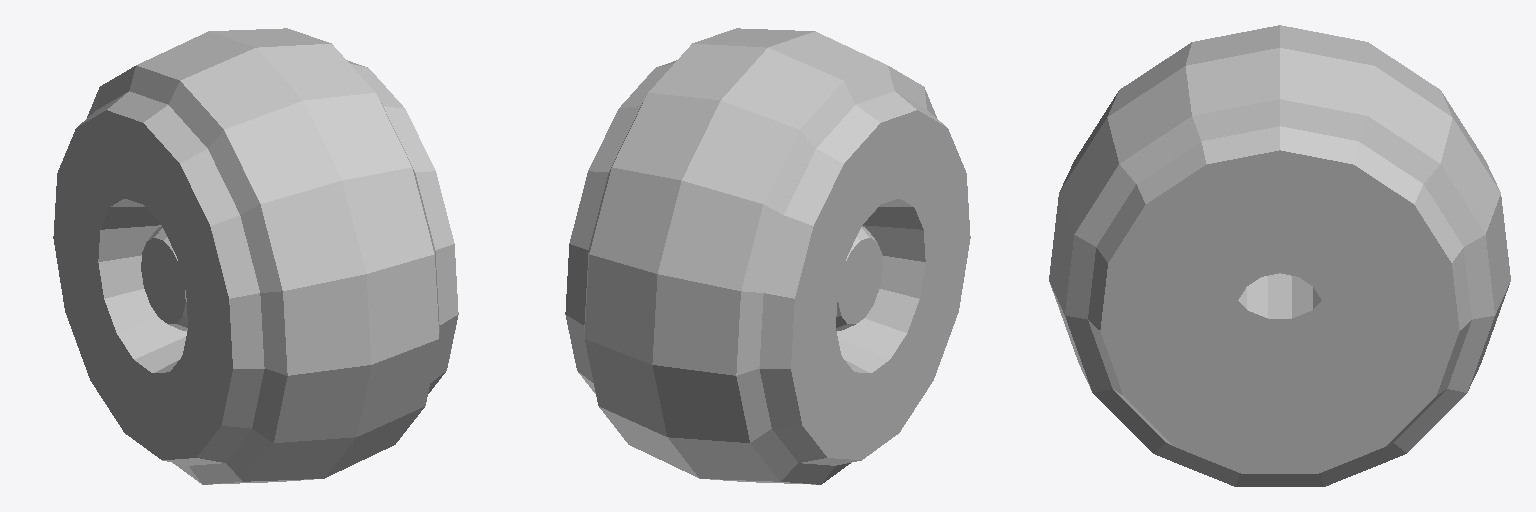
Rendered from RightWheel.obj.
The picture shows the model from 3 angles: view 1: azimuth 30°, elevation 25°; view 2: azimuth 150°, elevation 25°; view 3: azimuth 270°, elevation 25°; orthographic projection.
Parts seen in each view (by area): view 1: pasted__pasted__pasted__pasted__polySurface14 pasted__pasted__pa; view 2: pasted__pasted__pasted__pasted__polySurface14 pasted__pasted__pa; view 3: pasted__pasted__pasted__pasted__polySurface14 pasted__pasted__pa.
Part boxes in pixels (x1,y1,x2,y2): pasted__pasted__pasted__pasted__polySurface14 pasted__pasted__pa: (53, 28, 458, 484); pasted__pasted__pasted__pasted__polySurface14 pasted__pasted__pa: (565, 28, 970, 484); pasted__pasted__pasted__pasted__polySurface14 pasted__pasted__pa: (1049, 25, 1510, 486).
Bounding box in the file's own units: 0.1961 × 0.3463 × 0.3482.